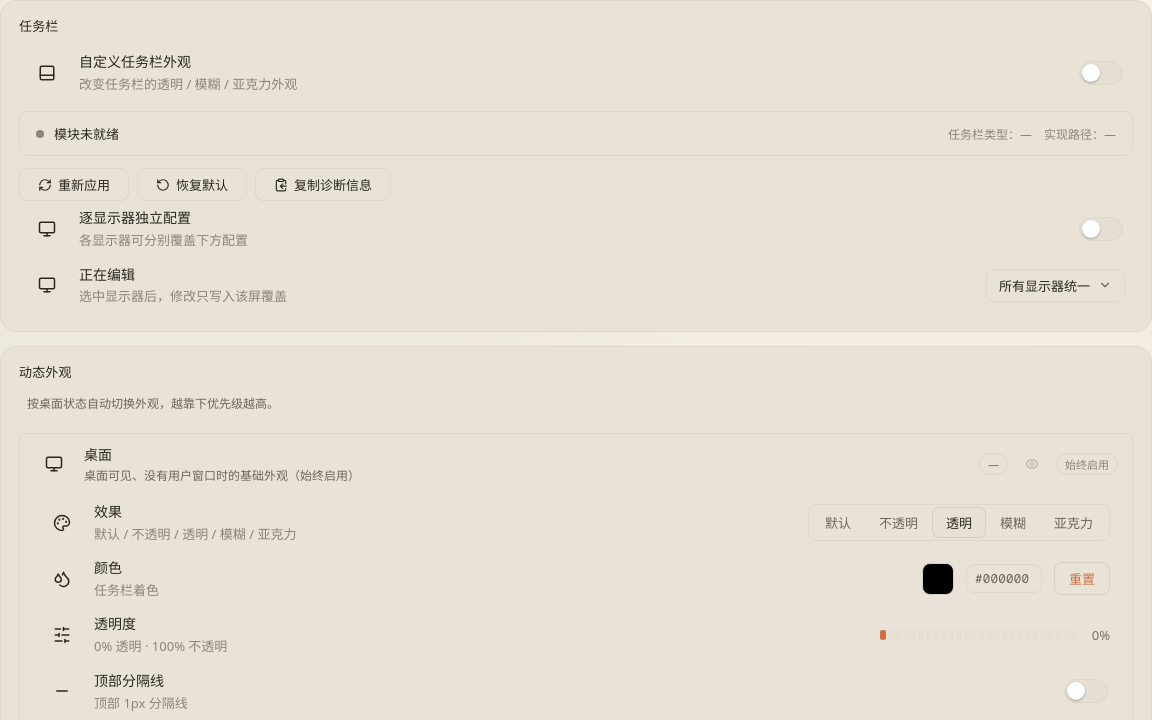
TaskbarPage · HEADER 显示器选择器（F-6） › Tauri 模式：list_monitors 动态分组（名称 · #槽位 · 主显示器），monitors-changed 刷新列表
Click the button "所有显示器统一" at (1056, 285), box left=986, top=269, right=1125, bottom=302
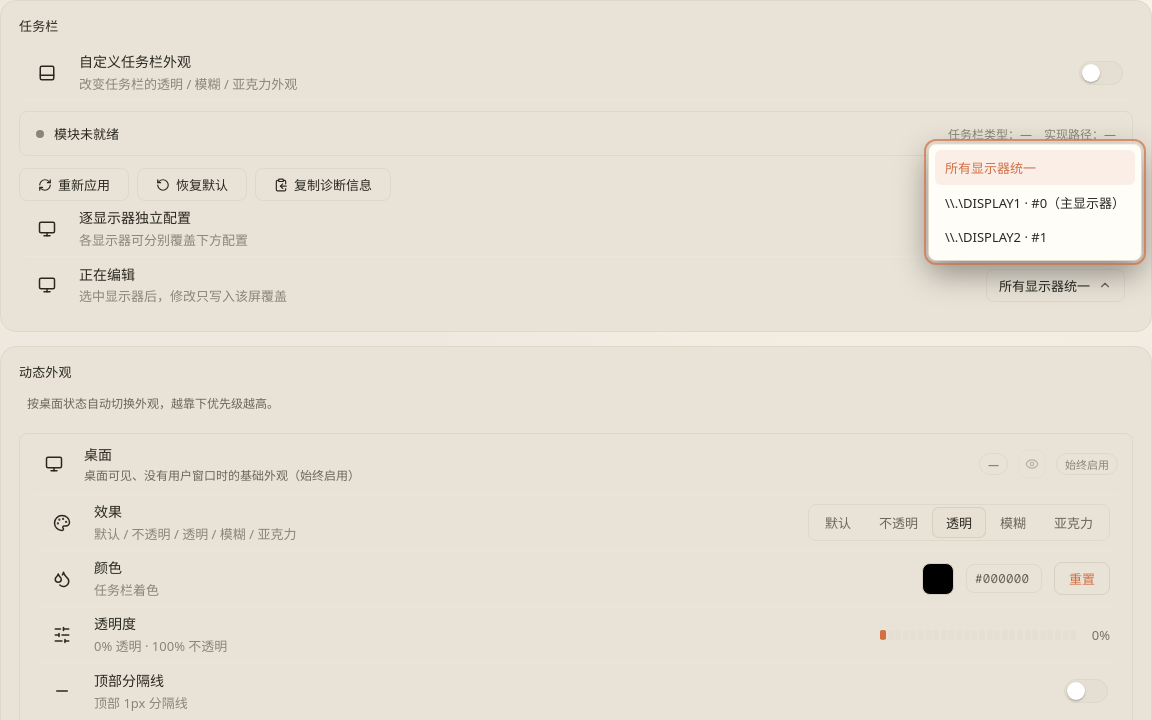
Result: the options read "所有显示器统一", "\\\\.\\DISPLAY1 · #0（主显示器）", "\\\\.\\DISPLAY2 · #1", in this order at left=935, top=150, right=1135, bottom=185; left=945, top=194, right=1125, bottom=212; left=945, top=228, right=1047, bottom=246
Press Escape
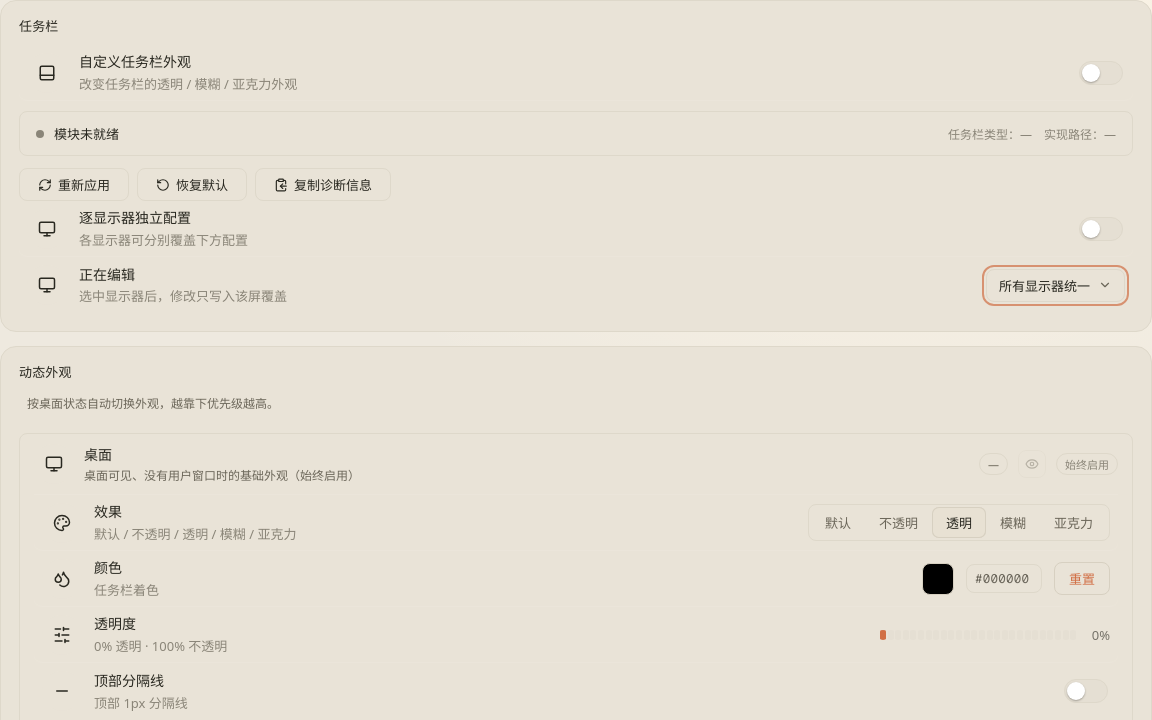
Click the button "所有显示器统一" at (1056, 285), box left=986, top=269, right=1125, bottom=302
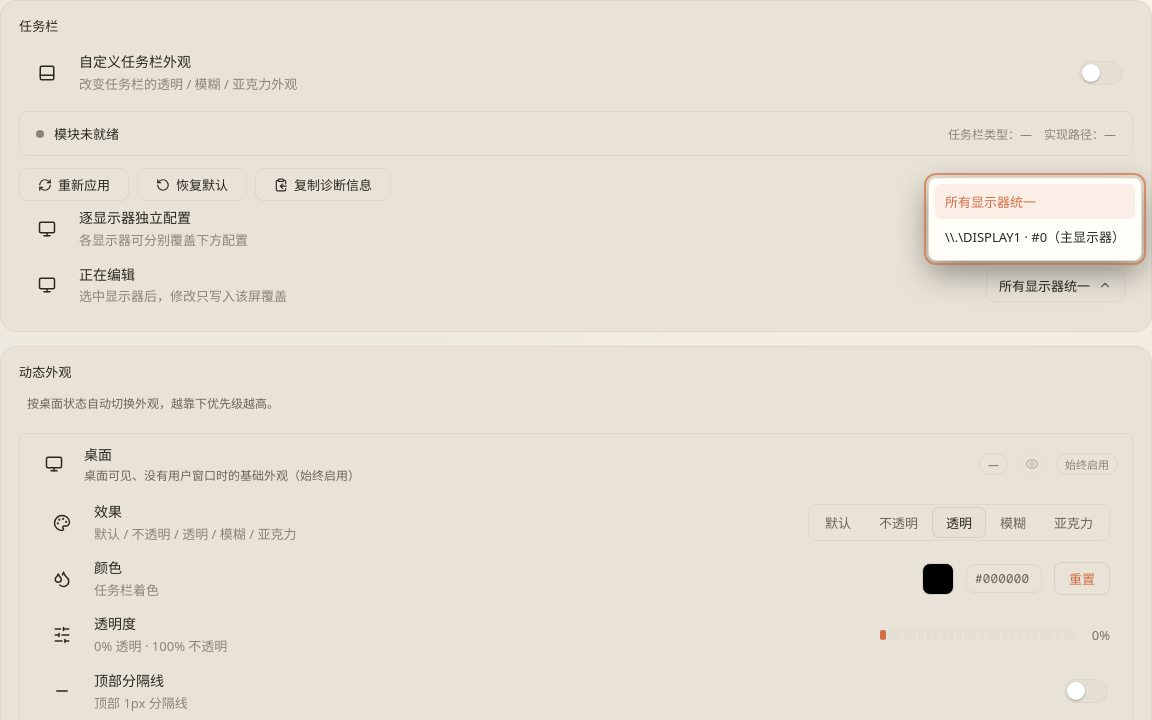
Result: the number of options is 2 at left=935, top=184, right=1135, bottom=219; left=945, top=228, right=1125, bottom=246
